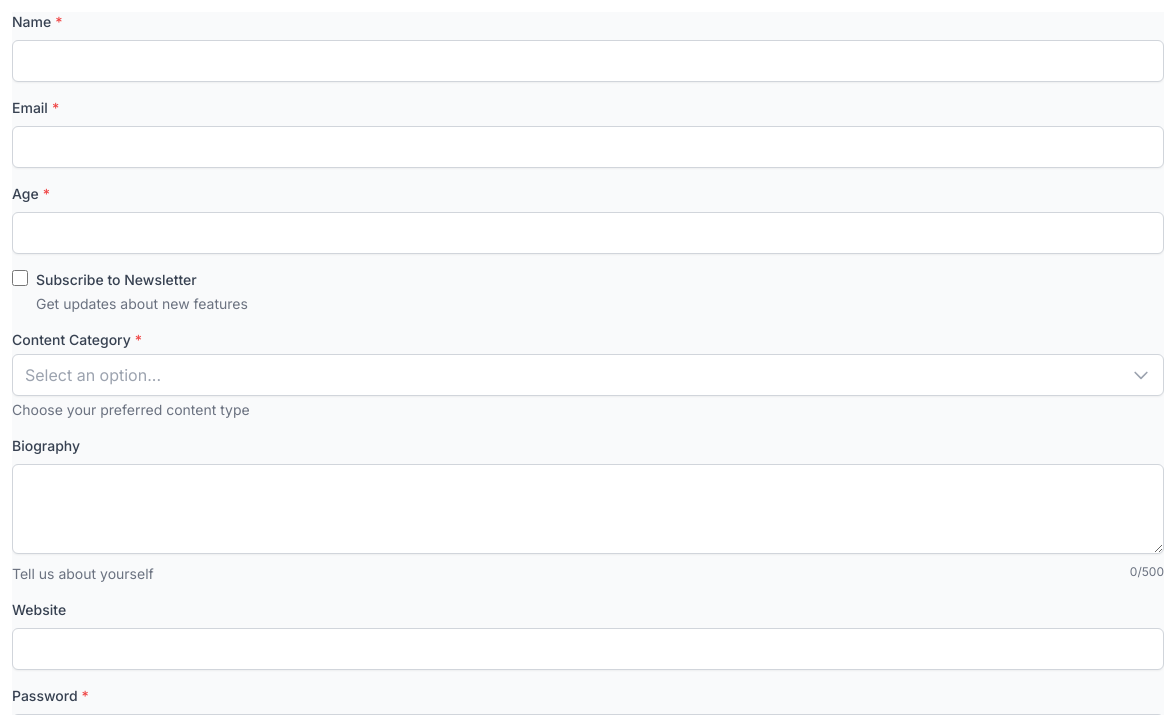
Test: DynamicForm › handles enum fields as select dropdowns
Step 1. Click the button named "content category" → [93, 375], box top-left (12, 354), bottom-right (1164, 396)
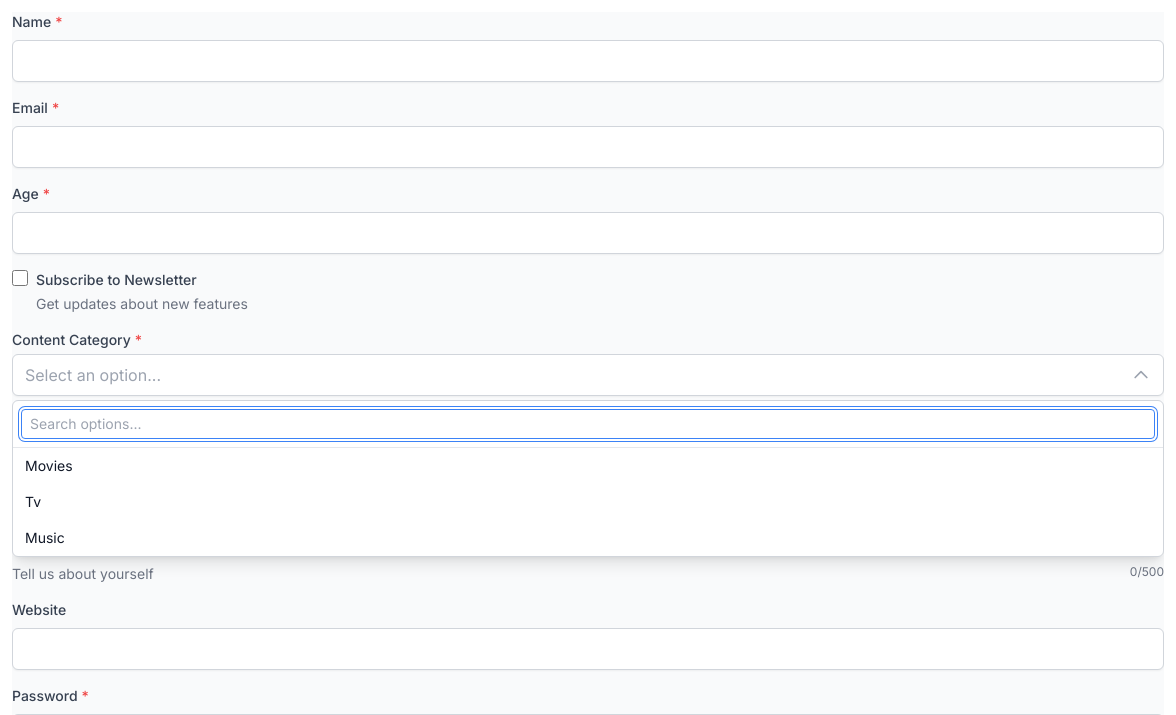
Check: the option "Movies" is shown, box top-left (25, 457), bottom-right (73, 474)
Check: the option "Tv" is shown, box top-left (25, 493), bottom-right (41, 510)
Check: the option "Music" is shown, box top-left (25, 529), bottom-right (65, 546)
